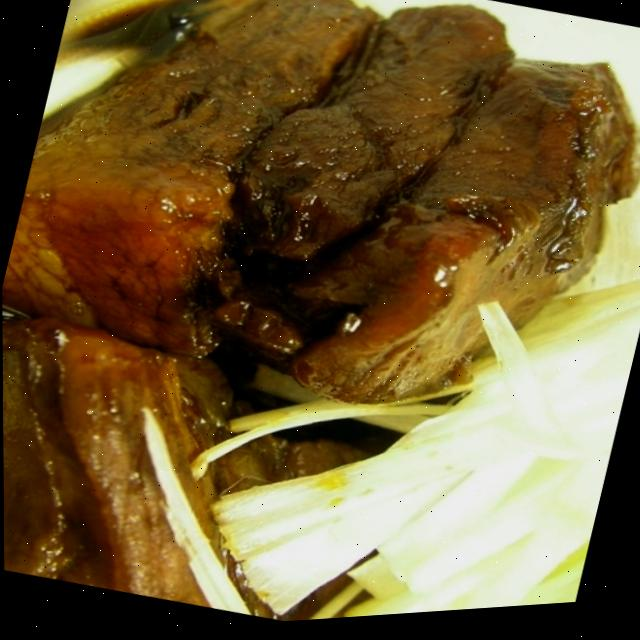牛肉菜式: (0, 0, 605, 629)
